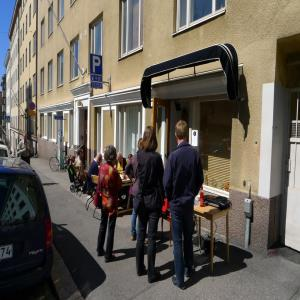Vehicle-registration-plate: (1, 245, 14, 261)
